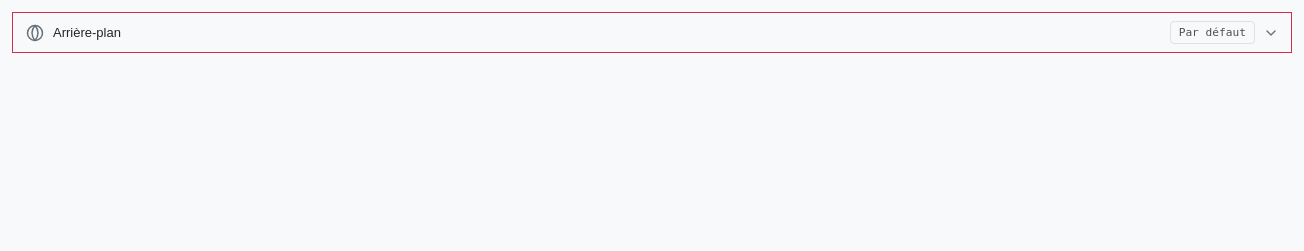
Test case: BackgroundColorSelector › s’ouvre et se replie au clic sur le déclencheur
Click the button "Arrière-plan Par défaut".
click(87, 32)  # box [12,12,1292,53]
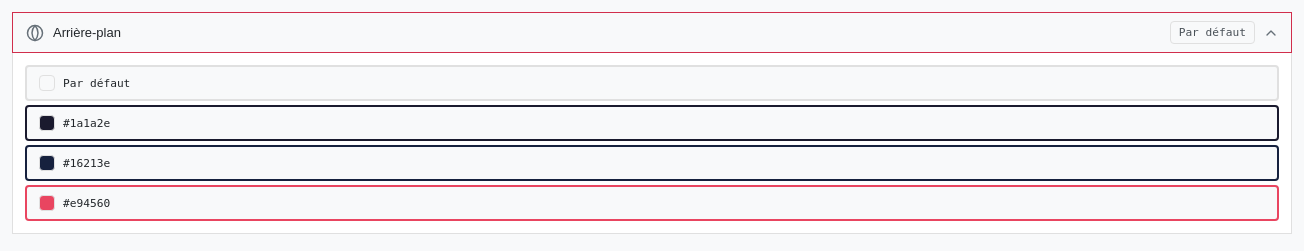
Expected: the button "Arrière-plan Par défaut" is expanded
Click the button "Arrière-plan Par défaut".
click(87, 32)  # box [12,12,1292,53]
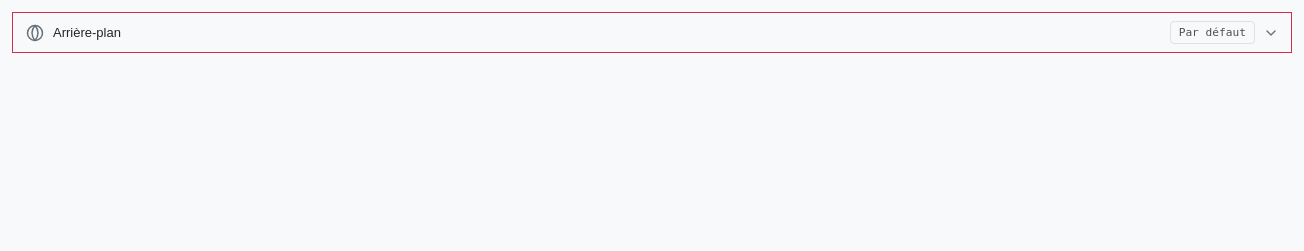
Expected: the button "Arrière-plan Par défaut" is collapsed, [12,12,1292,53]
